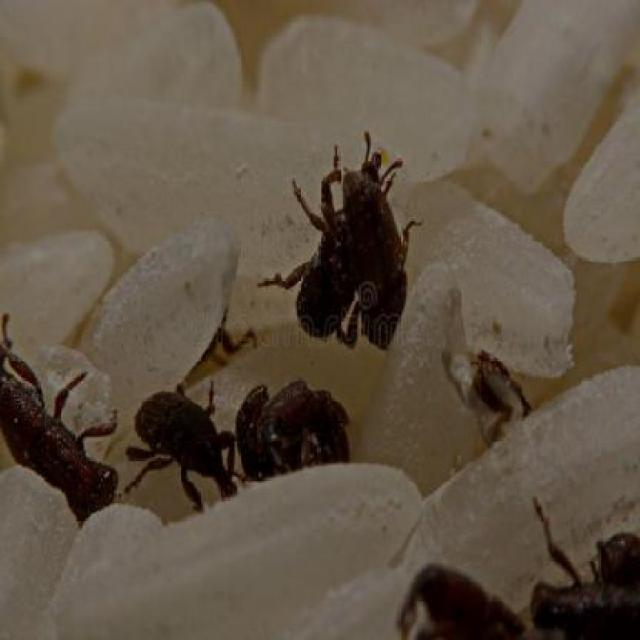rice-bug: (278, 144, 424, 342), (0, 315, 117, 534), (132, 366, 235, 517), (242, 369, 364, 489), (533, 524, 638, 640), (392, 555, 528, 640), (468, 352, 538, 430)
